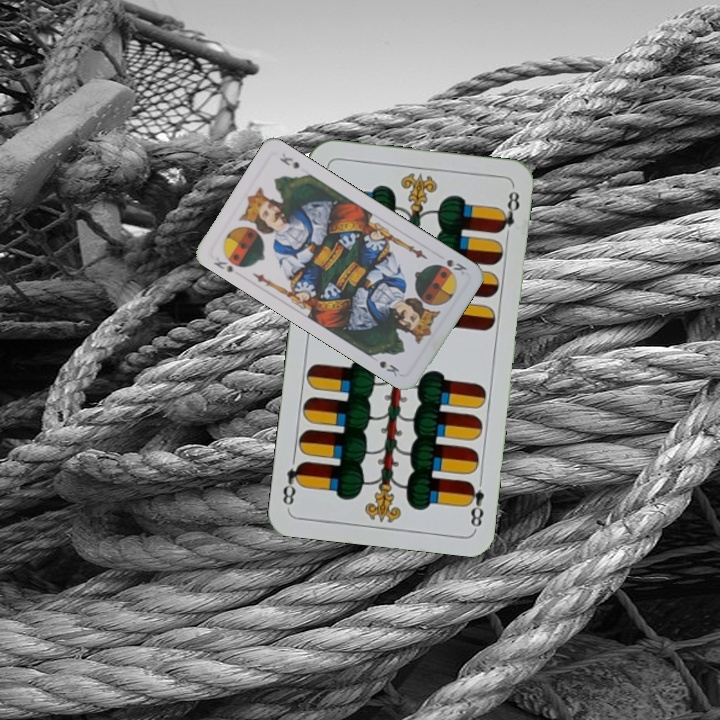E8: (462, 478, 487, 531)
SK: (209, 253, 245, 279), (442, 255, 469, 278)
